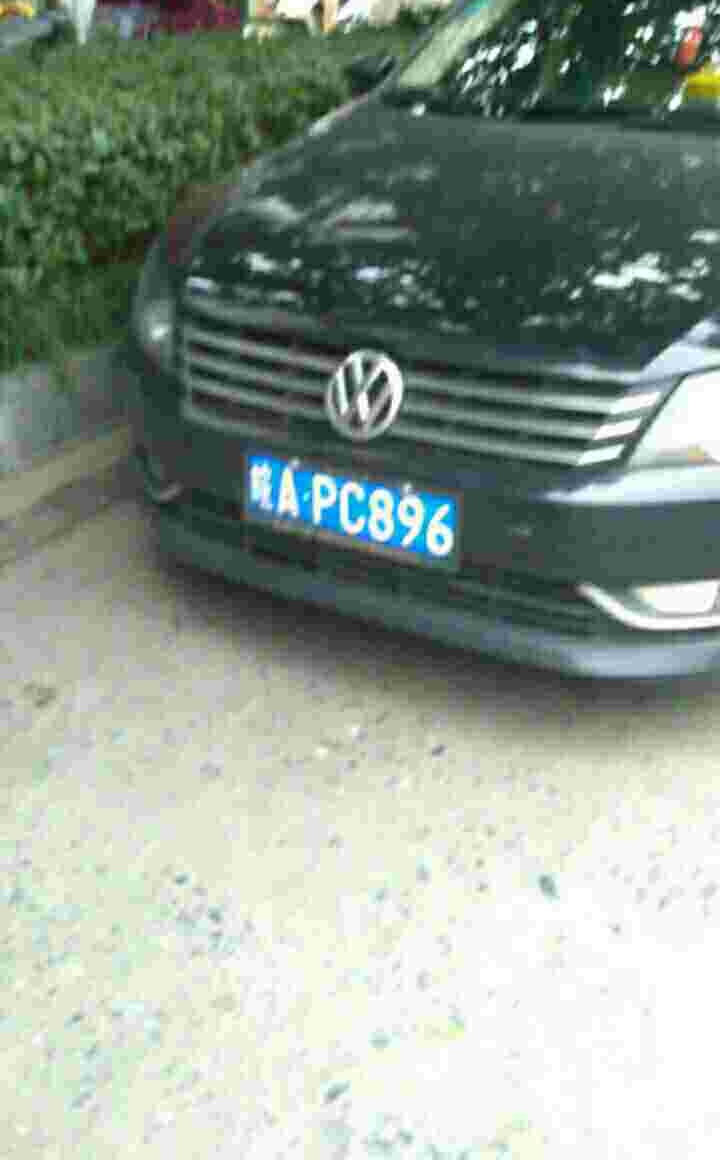car: (241, 449, 458, 554)
